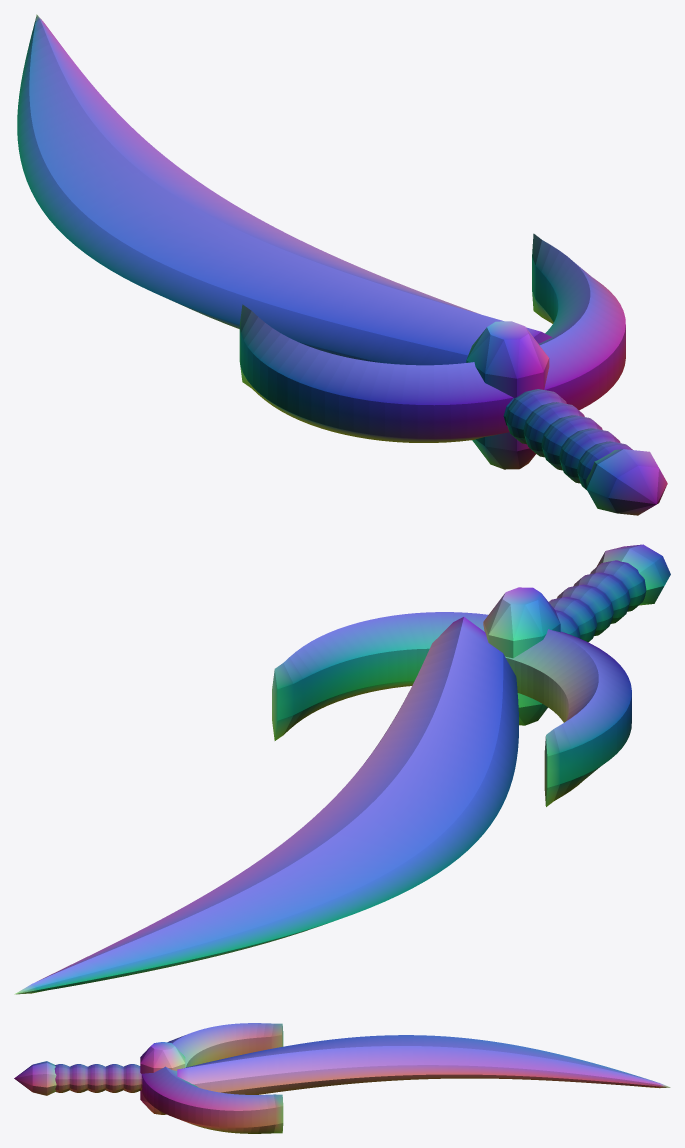
Rendered from SM_LyraDagger.fbx.
The picture shows the model from 3 angles, top to bottom: view 1: azimuth 30°, elevation 25°; view 2: azimuth 150°, elevation 25°; view 3: azimuth 270°, elevation 25°; orthographic projection. The views are drawn at different scales.
Parts seen in each view (by area): view 1: SM_LyraDagger; view 2: SM_LyraDagger; view 3: SM_LyraDagger.
Boxes of the visible parts, x1,y1,x2,y2 form: SM_LyraDagger: (17, 14, 667, 515); SM_LyraDagger: (14, 544, 670, 994); SM_LyraDagger: (14, 1023, 670, 1133).
Size of the model in its own units: 0.2734 by 0.1 by 0.918.
